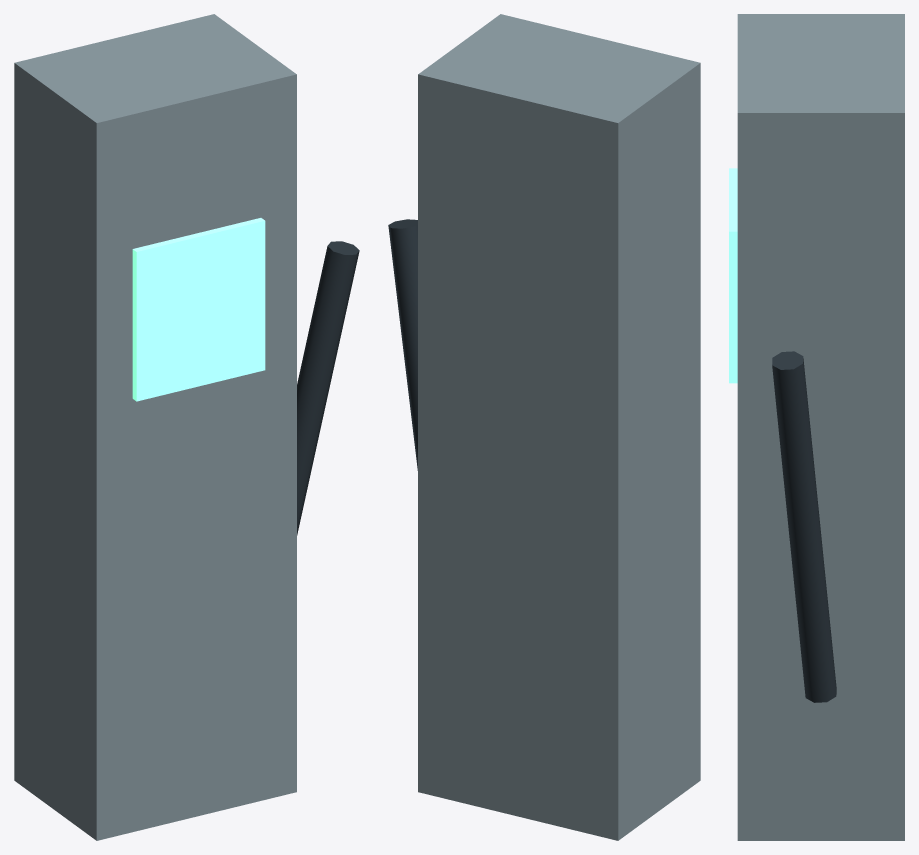
The model's file is charger.lod1.glb.
The picture shows the model from 3 angles, left to right: view 1: azimuth 30°, elevation 25°; view 2: azimuth 150°, elevation 25°; view 3: azimuth 270°, elevation 25°; orthographic projection.
Parts seen in each view (by area): view 1: structure; view 2: structure; view 3: structure.
Part boxes in pixels (x1=…): structure: x1=14, y1=14, x2=359, y2=840; structure: x1=388, y1=14, x2=700, y2=840; structure: x1=729, y1=14, x2=904, y2=840.
Size of the model in its own units: 0.9962 by 2.4 by 0.525.
